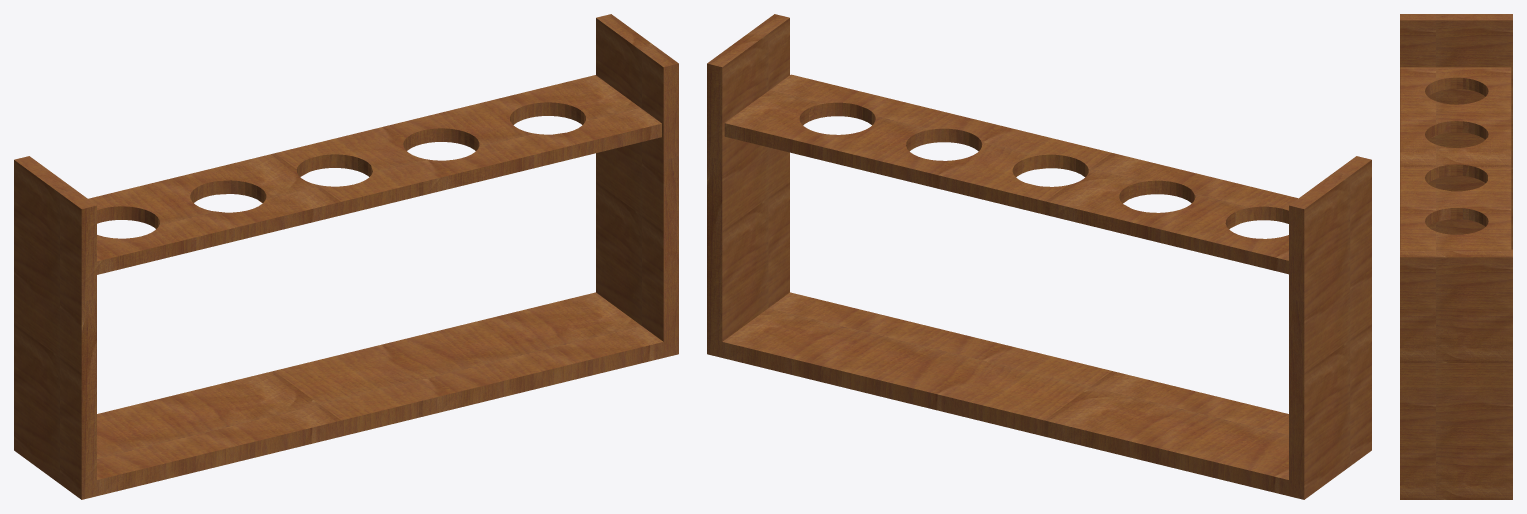
The model's file is chemical_ Testtuberack_wood.FBX.
3 views of the same model, side by side, from view 1: azimuth 30°, elevation 25°; view 2: azimuth 150°, elevation 25°; view 3: azimuth 270°, elevation 25° (orthographic). The views are drawn at different scales.
Visible parts, largest first — view 1: chemical_ Testtuberack_wood; view 2: chemical_ Testtuberack_wood; view 3: chemical_ Testtuberack_wood.
Boxes of the visible parts, bbox=[...] form: chemical_ Testtuberack_wood: bbox=[14, 14, 678, 499]; chemical_ Testtuberack_wood: bbox=[707, 14, 1371, 499]; chemical_ Testtuberack_wood: bbox=[1400, 14, 1512, 499].
Size of the model in its own units: 28.28 by 13.15 by 5.55.
1 material, 1 textured.
